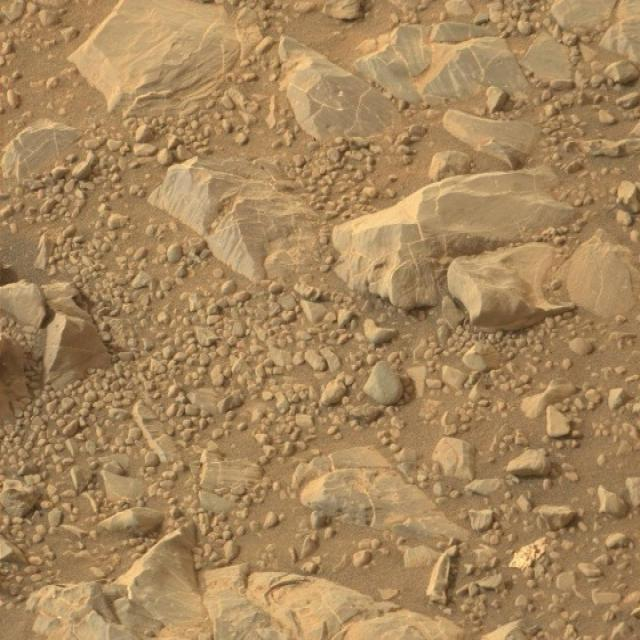rock: (333, 168, 568, 309), (150, 158, 333, 292), (450, 240, 570, 324), (44, 318, 106, 376), (0, 276, 48, 326)
